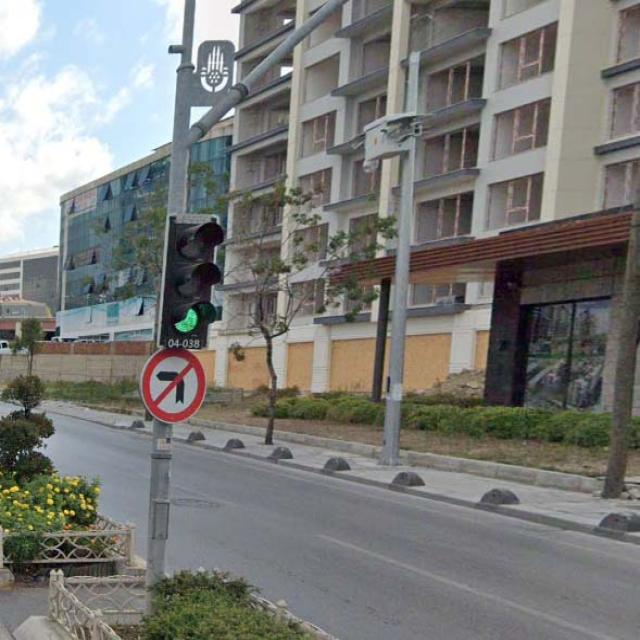soladonulmez: (140, 348, 207, 422)
yesil: (161, 213, 212, 348)
